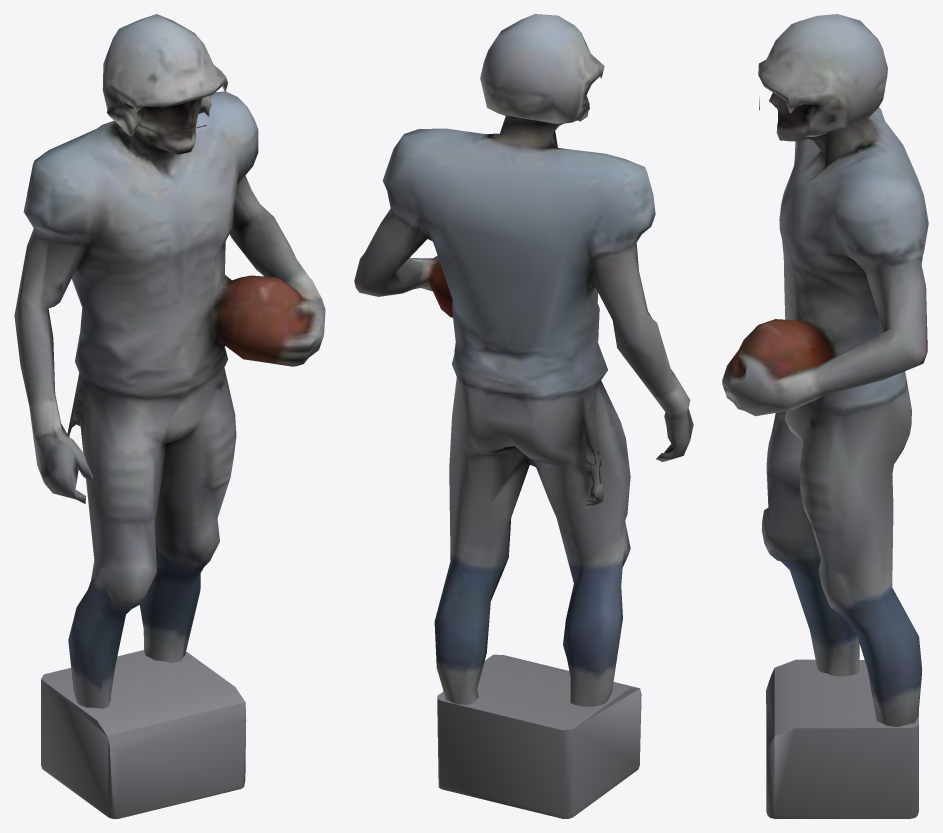
File: futbolista_media.glb
The picture shows the model from 3 angles, left to right: view 1: azimuth 30°, elevation 25°; view 2: azimuth 150°, elevation 25°; view 3: azimuth 270°, elevation 25°; orthographic projection. The views are drawn at different scales.
Visible parts, largest first — view 1: futbolista_americano_pie; view 2: futbolista_americano_pie; view 3: futbolista_americano_pie.
Boxes of the visible parts, x1,y1,x2,y2 form: futbolista_americano_pie: [14, 14, 325, 818]; futbolista_americano_pie: [354, 14, 693, 818]; futbolista_americano_pie: [722, 14, 928, 818].
Bounding box in the file's own units: 0.7857 × 1.99 × 0.4841.
2 materials, 1 textured.
